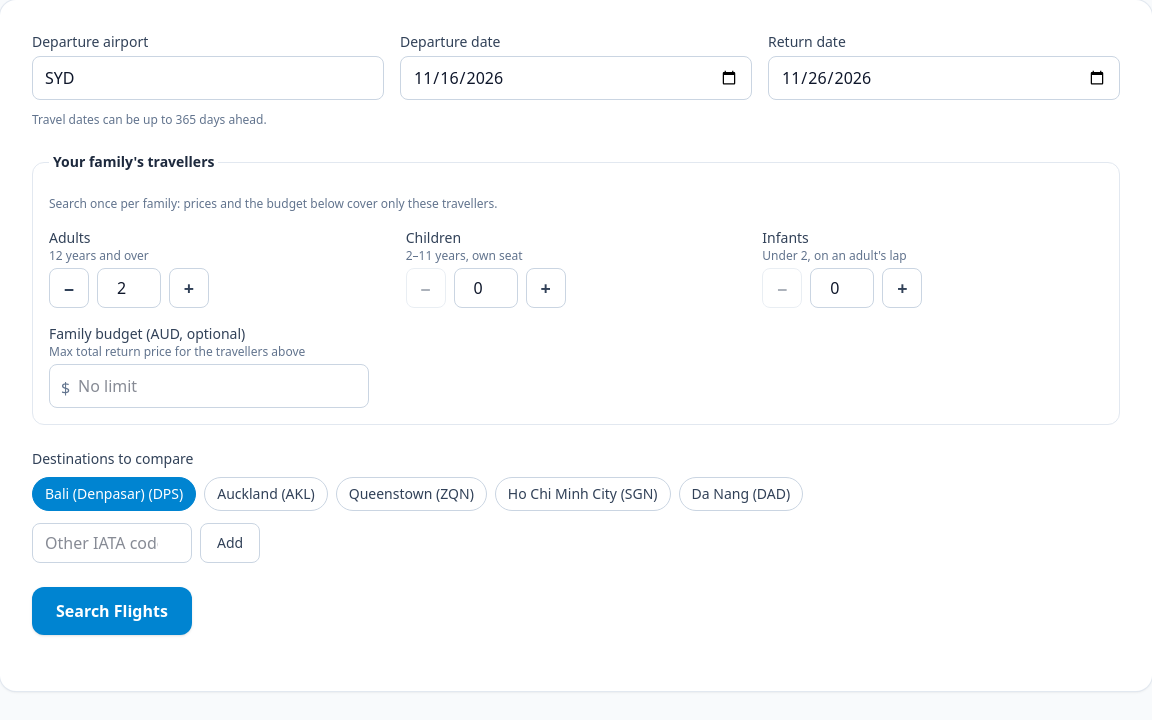
Scenario: SearchForm › rejects an invalid custom IATA code
Type "N1" into the field named "Other destination IATA code" at (112, 543), box [32,523,192,563]
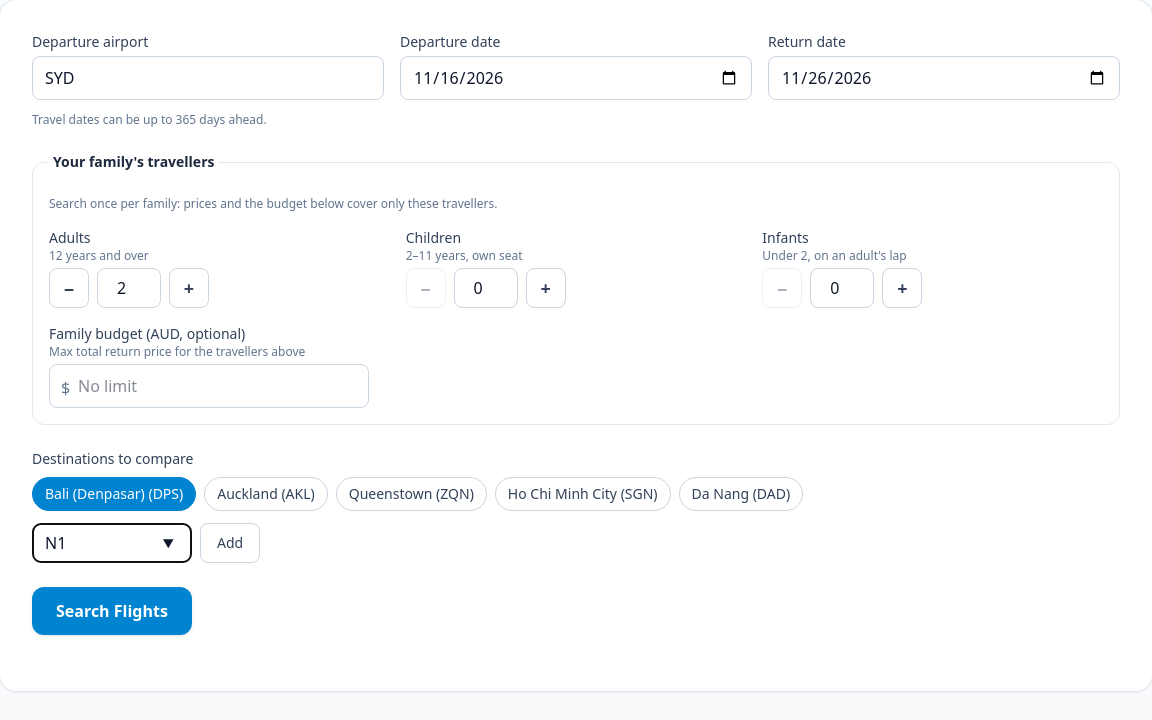
Click the button "Add" at (230, 543), box [200,523,260,563]
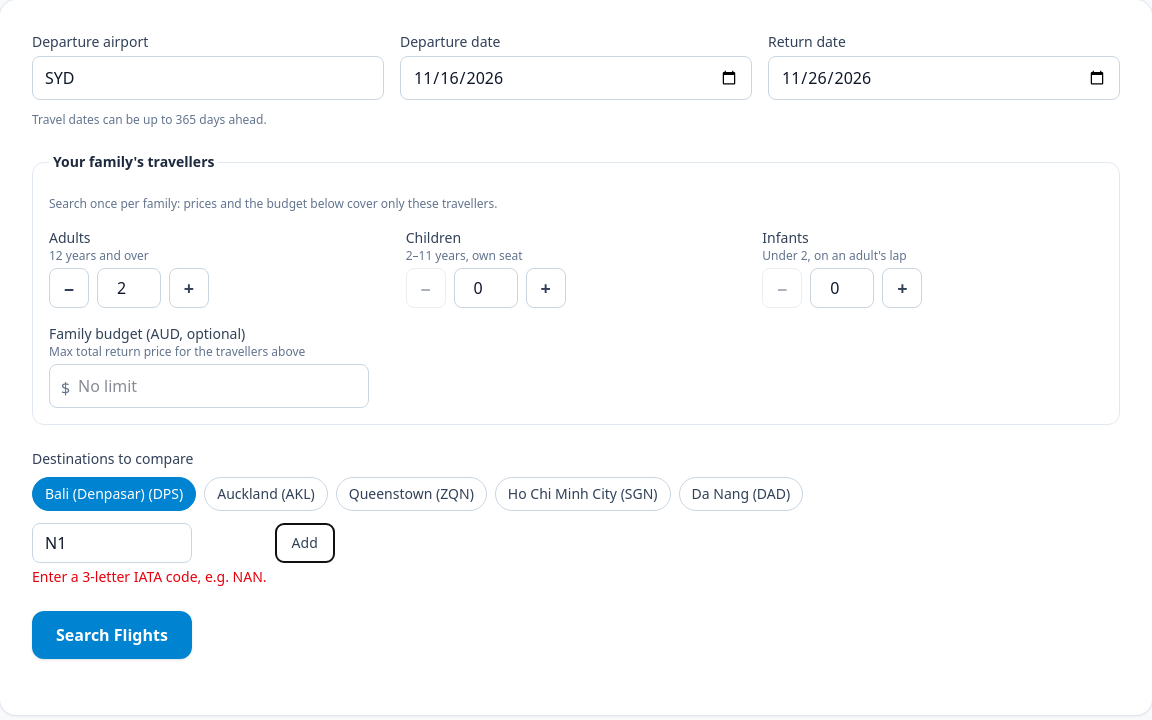
expect the text "Enter a 3-letter IATA code, e.g. NAN." is shown: met, box [32,567,267,587]
